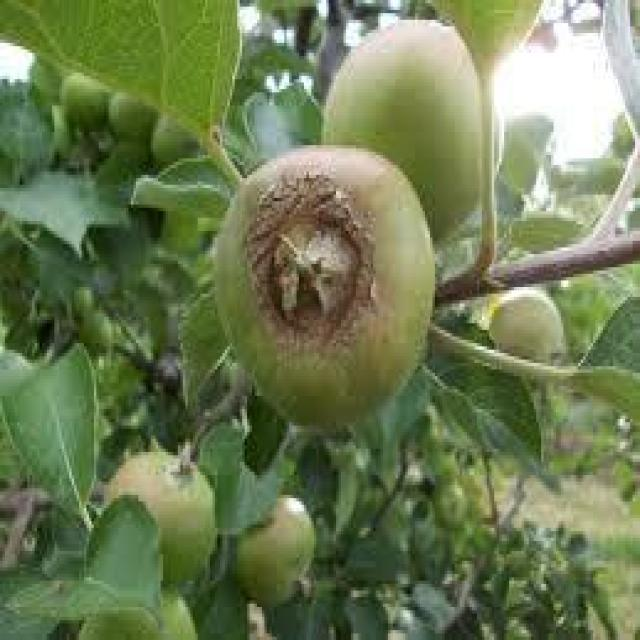maca: (210, 142, 435, 432), (319, 16, 489, 241), (104, 445, 217, 584)
